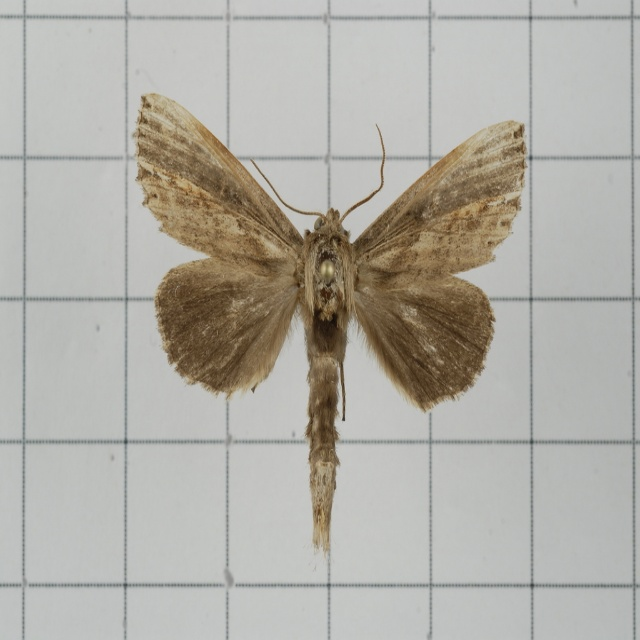Butterfly: (126, 95, 533, 524)
